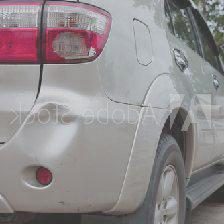bumper_dent: (15, 61, 104, 186)
